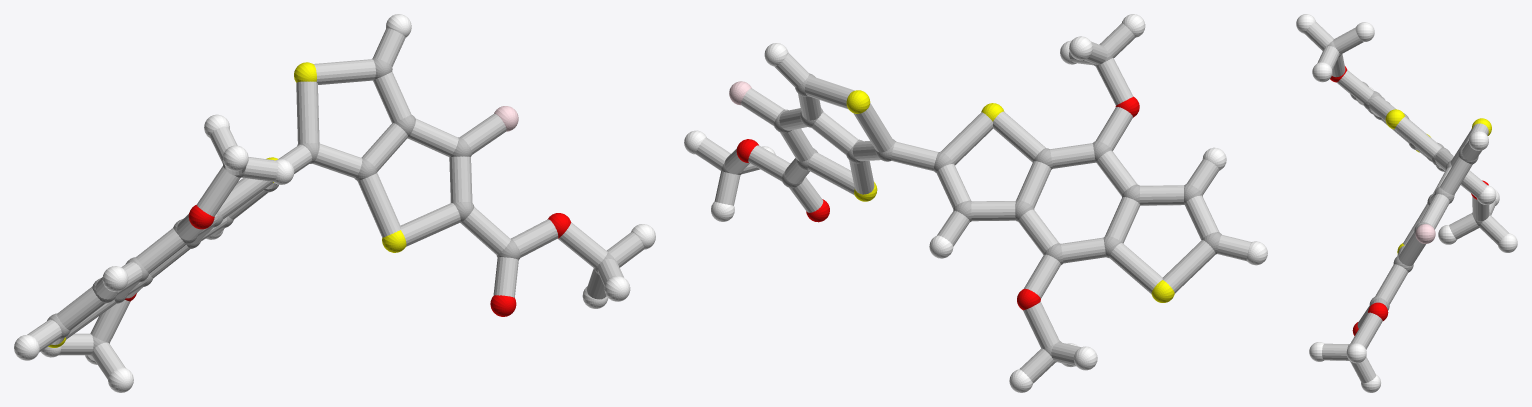
File: Dimethoxy_Benzodithiophene_Phi_20_Theta_100_Methylcarbonyl_3_Fluoro_Thienothiophene.glb
3 renders of one model, left to right at view 1: azimuth 30°, elevation 25°; view 2: azimuth 150°, elevation 25°; view 3: azimuth 270°, elevation 25°, orthographic. The views are drawn at different scales.
Parts seen in each view (by area): view 1: grp15205, grp8689, grp1, grp13395, grp7241; view 2: grp15205, grp8689, grp1, grp7241, grp13395; view 3: grp15205, grp8689, grp1, grp7241, grp13395, grp14843.
Part boxes in pixels (x1,y1,x2,y2): grp15205: (27, 28, 644, 379); grp8689: (14, 14, 655, 392); grp1: (47, 58, 615, 355); grp13395: (125, 205, 571, 316); grp7241: (48, 62, 406, 347); grp15205: (695, 23, 1251, 383); grp8689: (684, 14, 1267, 392); grp1: (721, 44, 1221, 362); grp7241: (846, 90, 1174, 302); grp13395: (736, 96, 1139, 310); grp15205: (1304, 21, 1508, 383); grp8689: (1296, 14, 1517, 392); grp1: (1327, 40, 1490, 361); grp7241: (1385, 109, 1491, 254); grp13395: (1330, 66, 1488, 335); grp14843: (1415, 224, 1435, 243).
Size of the model in its own units: 16.86 by 7.89 by 6.58.
